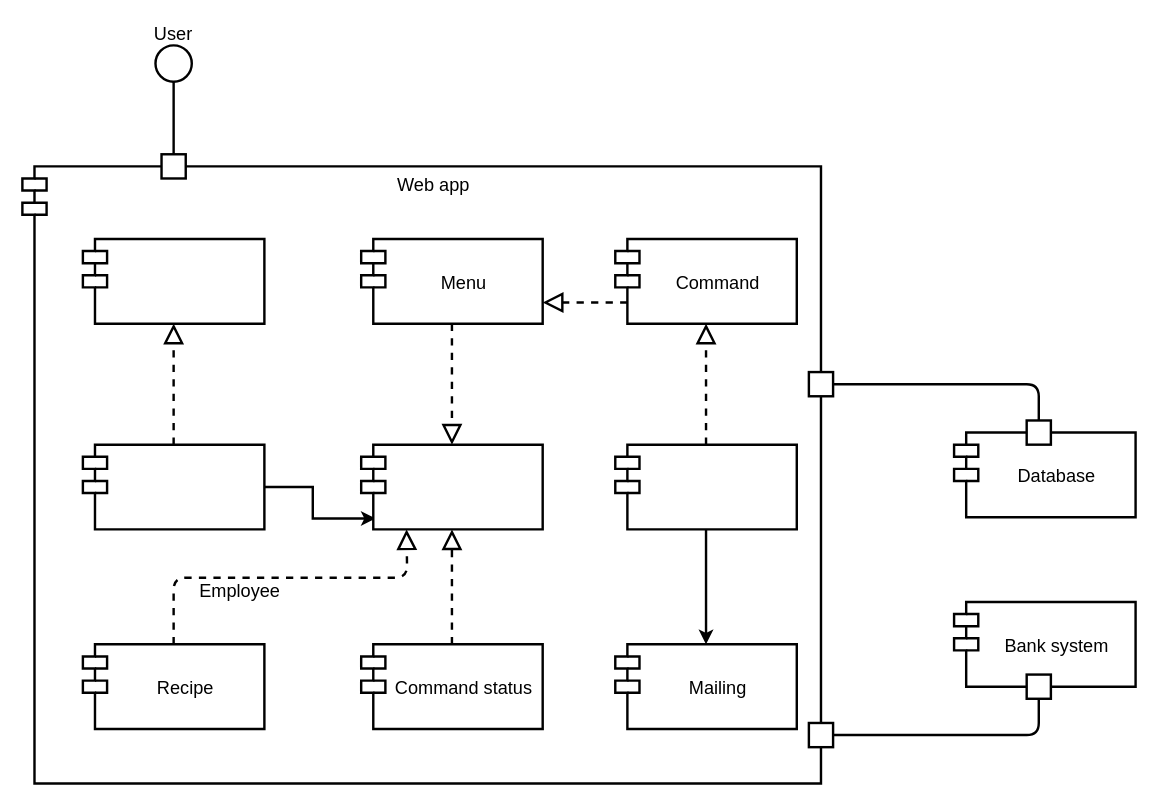
Some shapes in this 1157 by 805 pixel diagram are drawn without their labels. Here are the shapes that lost their labels. From the top down, the box of each, then its label:
(81, 237, 265, 324): Welcome page
(81, 443, 265, 530): Authentication
(359, 443, 543, 530): User profile
(613, 443, 797, 530): Payment
